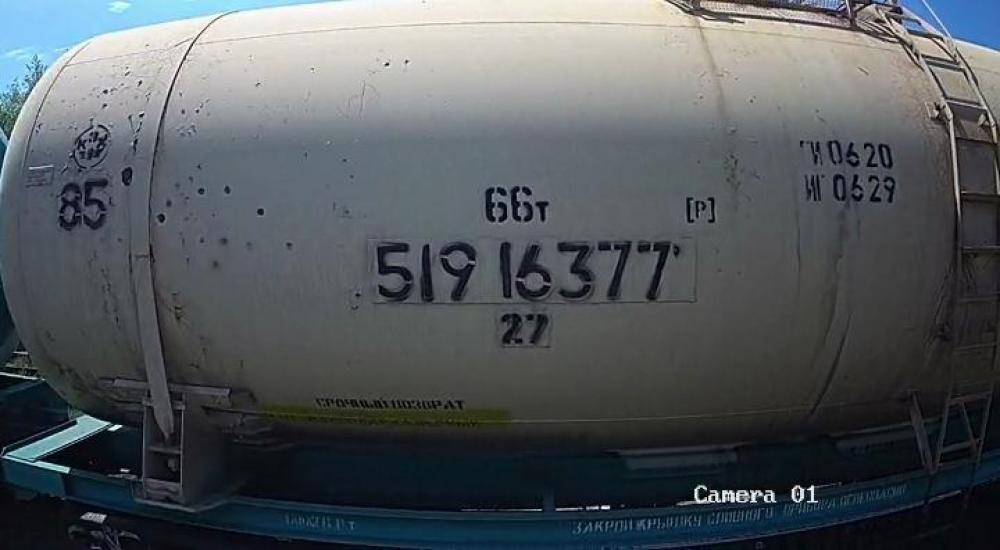Wagon-number: (371, 238, 684, 304)
